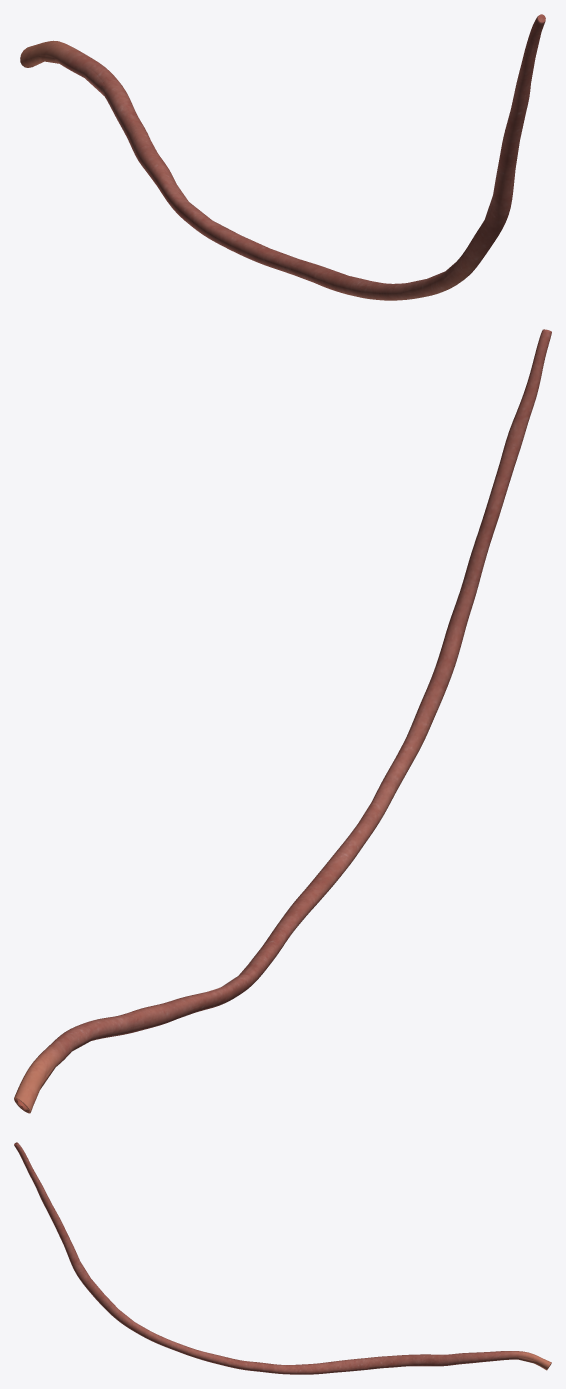
Rendered from Esophagus.fbx.
3 renders of one model, top to bottom at view 1: azimuth 30°, elevation 25°; view 2: azimuth 150°, elevation 25°; view 3: azimuth 270°, elevation 25°, orthographic. The views are drawn at different scales.
Parts seen in each view (by area): view 1: Esophagus high, Esophagus low; view 2: Esophagus high, Esophagus low; view 3: Esophagus high, Esophagus low.
Boxes of the visible parts, left/top/right/bottom form: Esophagus high: left=20, top=14, right=545, bottom=300; Esophagus low: left=21, top=15, right=545, bottom=298; Esophagus high: left=14, top=329, right=551, bottom=1113; Esophagus low: left=15, top=359, right=544, bottom=1112; Esophagus high: left=14, top=1142, right=551, bottom=1374; Esophagus low: left=14, top=1142, right=551, bottom=1373.
Size of the model in its own units: 3.84 by 30.23 by 64.02.
1 material, 1 textured.
